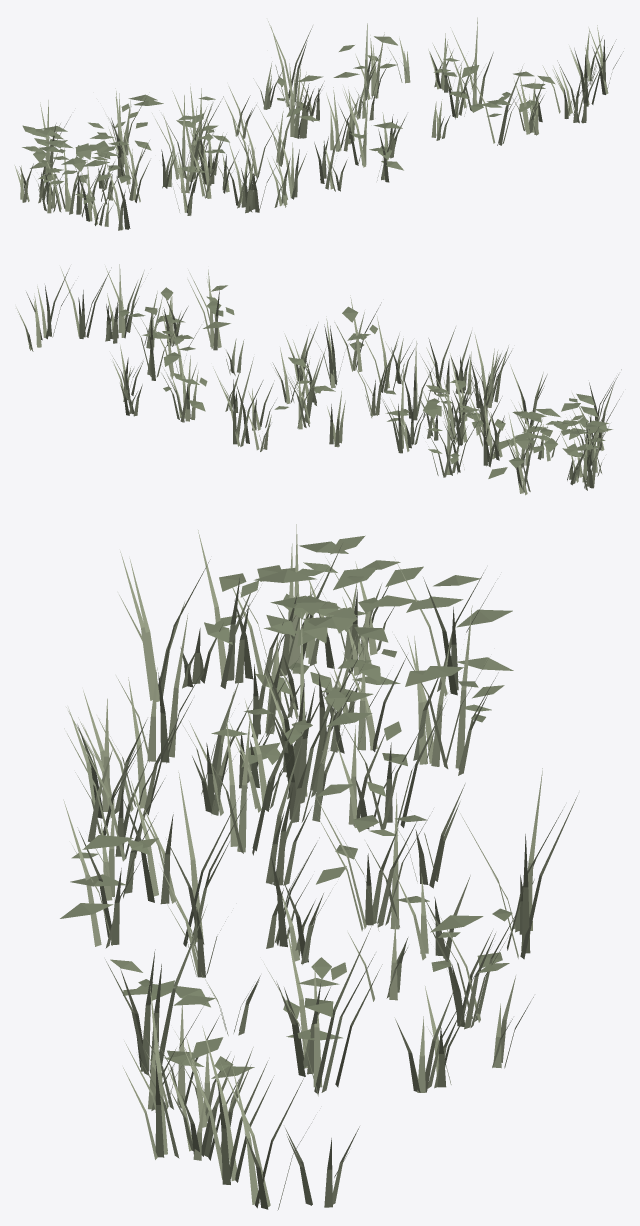
Rendered from AE_Encroachment_09.fbx.
The picture shows the model from 3 angles, top to bottom: view 1: azimuth 30°, elevation 25°; view 2: azimuth 150°, elevation 25°; view 3: azimuth 270°, elevation 25°; orthographic projection. The views are drawn at different scales.
Visible parts, largest first — view 1: AE_Encroachment_09_LOD0; view 2: AE_Encroachment_09_LOD0; view 3: AE_Encroachment_09_LOD0.
Boxes of the visible parts, <box> form: AE_Encroachment_09_LOD0: <box>14,17,623,230</box>; AE_Encroachment_09_LOD0: <box>16,264,621,495</box>; AE_Encroachment_09_LOD0: <box>60,524,577,1210</box>.
Size of what is drawn, in the model's own units: 778 by 109 by 303.
